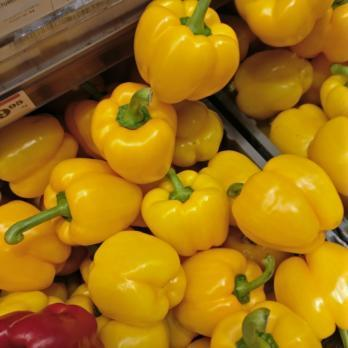Capsicum: (1, 130, 252, 348), (256, 153, 348, 348), (136, 2, 241, 101), (92, 84, 185, 185), (216, 50, 322, 105), (232, 0, 342, 50)
